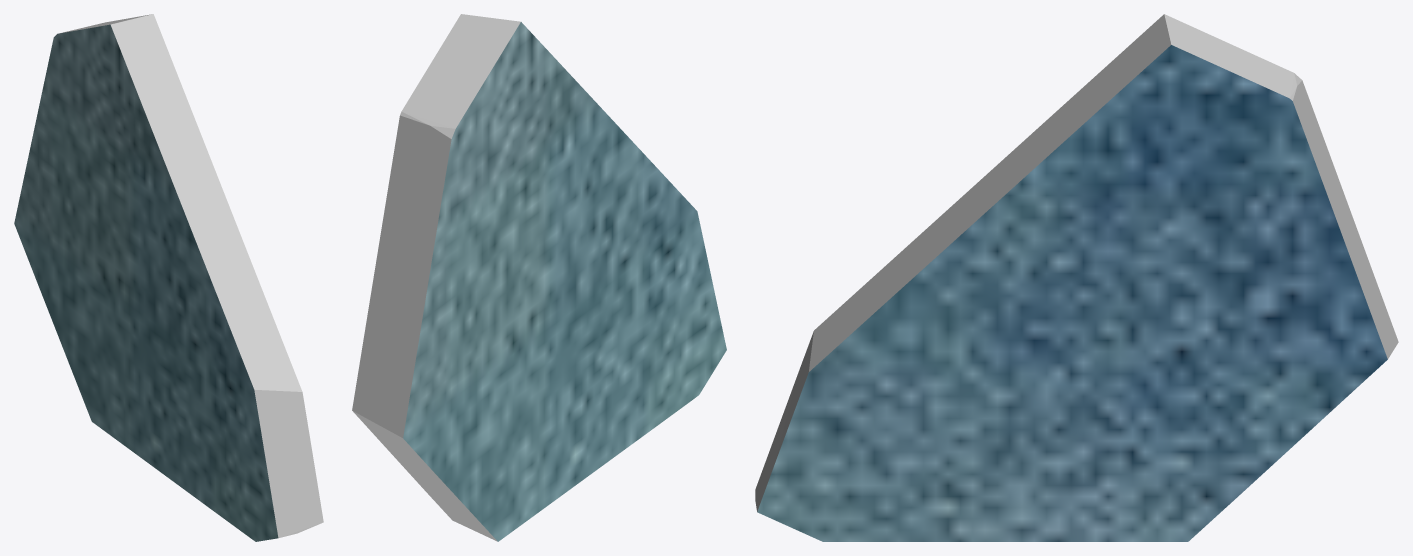
The picture shows the model from 3 angles, left to right: view 1: azimuth 30°, elevation 25°; view 2: azimuth 150°, elevation 25°; view 3: azimuth 270°, elevation 25°; orthographic projection. The views are drawn at different scales.
Parts seen in each view (by area): view 1: Cube_cell.011_Mesh.011; view 2: Cube_cell.011_Mesh.011; view 3: Cube_cell.011_Mesh.011.
Boxes of the visible parts, x1=… form: Cube_cell.011_Mesh.011: x1=14, y1=14, x2=323, y2=541; Cube_cell.011_Mesh.011: x1=352, y1=14, x2=726, y2=541; Cube_cell.011_Mesh.011: x1=755, y1=14, x2=1398, y2=541.
Size of the model in its own units: 0.0832 by 0.7087 by 0.8256.
